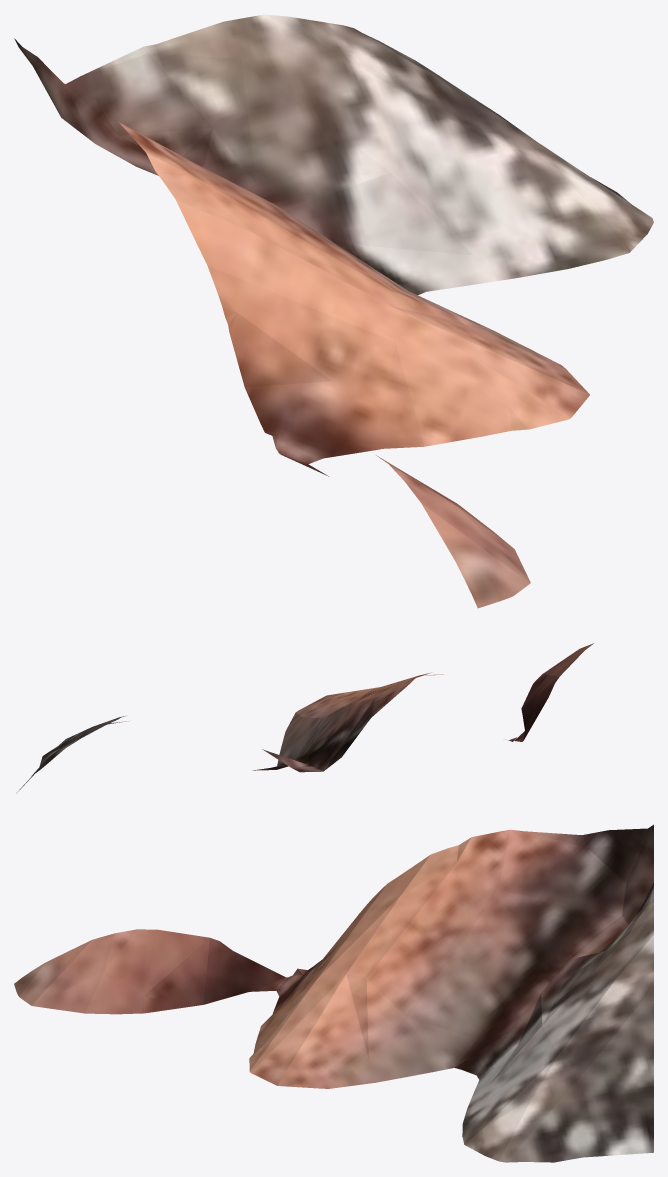
3 renders of one model, top to bottom at view 1: azimuth 30°, elevation 25°; view 2: azimuth 150°, elevation 25°; view 3: azimuth 270°, elevation 25°, orthographic. The views are drawn at different scales.
Size of the model in its own units: 0.3082 by 0.1282 by 0.4664.
1 material, 1 textured.
